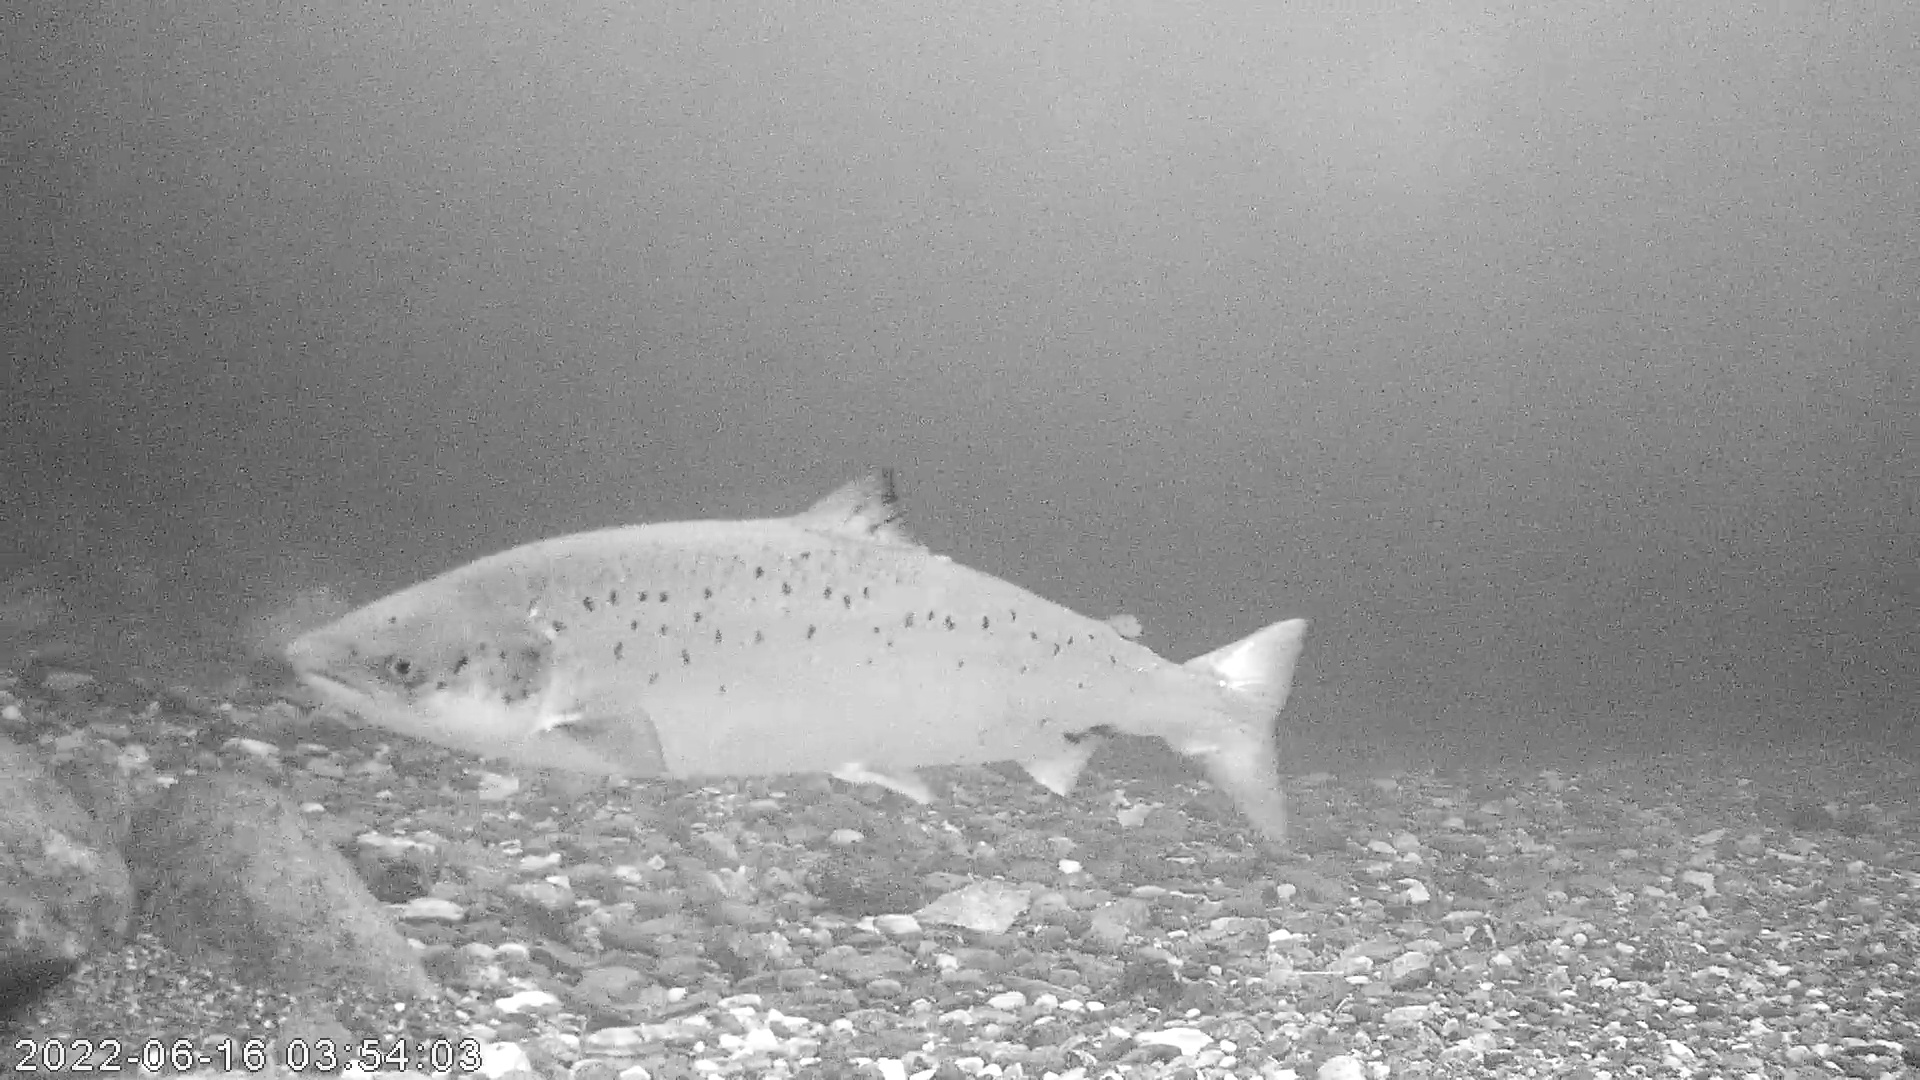salmon: (280, 463, 1309, 851)
